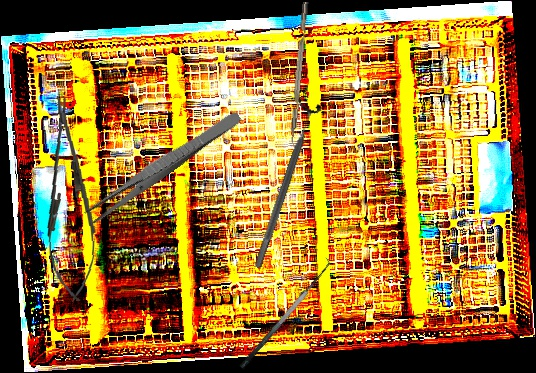Chopper: (287, 1, 316, 150)
Dressing Forceps: (82, 105, 244, 227)
Fixation Ring: (244, 97, 325, 272)
Needle Holder: (37, 94, 101, 303)
Spatula Surgical: (229, 254, 338, 371)
